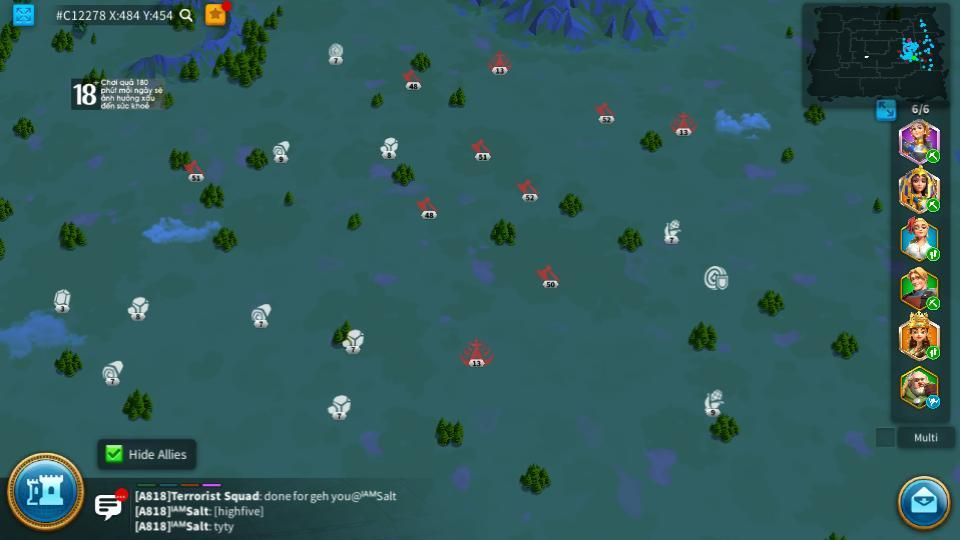gem-z-out: (51, 289, 71, 311), (327, 43, 345, 64)
march_idle: (925, 396, 942, 408)
march_marching: (925, 196, 941, 211), (925, 345, 941, 359), (925, 150, 942, 162), (925, 297, 942, 308)
